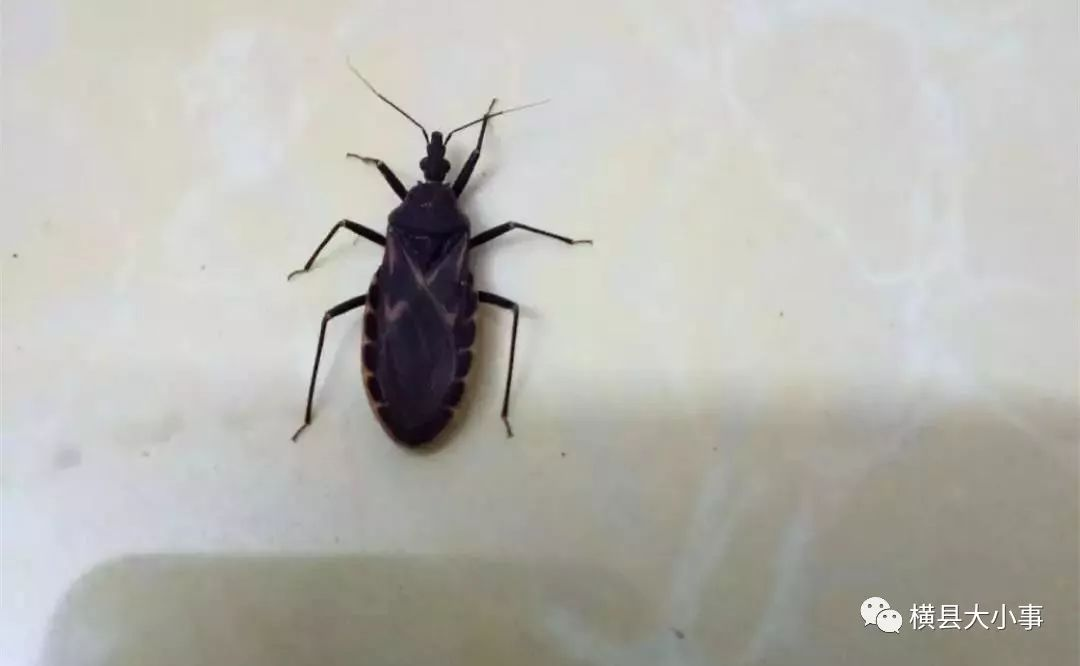chunchong: (298, 103, 561, 447)
